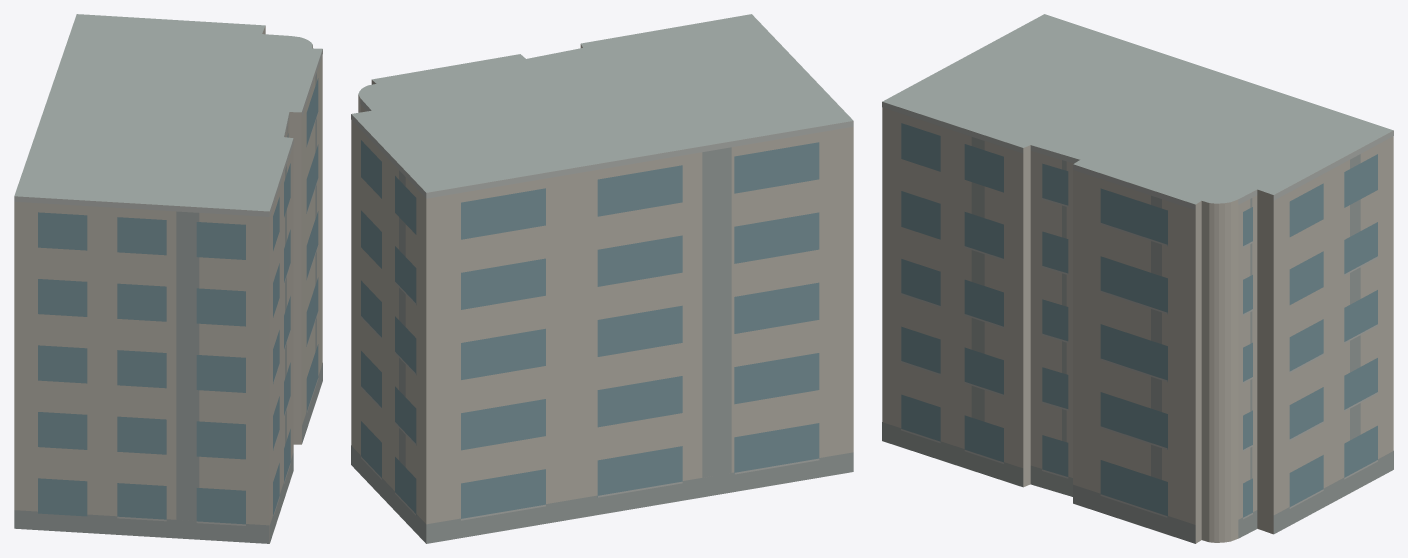
File: survey-upis-32989859.glb
The picture shows the model from 3 angles, left to right: view 1: azimuth 30°, elevation 25°; view 2: azimuth 150°, elevation 25°; view 3: azimuth 270°, elevation 25°; orthographic projection. The views are drawn at different scales.
Visible parts, largest first — view 1: survey-upis-32989859.tmp; view 2: survey-upis-32989859.tmp; view 3: survey-upis-32989859.tmp.
Boxes of the visible parts, x1,y1,x2,y2 form: survey-upis-32989859.tmp: (14, 14, 322, 543); survey-upis-32989859.tmp: (351, 14, 853, 543); survey-upis-32989859.tmp: (882, 14, 1393, 543).
Size of the model in its own units: 17.59 by 14.6 by 19.96.
